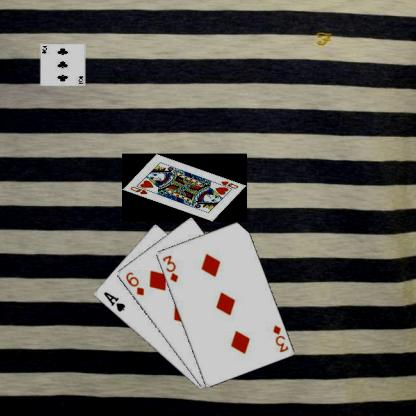3D: (160, 252, 180, 284), (270, 322, 290, 353)
6D: (123, 269, 145, 297)
AS: (101, 289, 126, 313)
